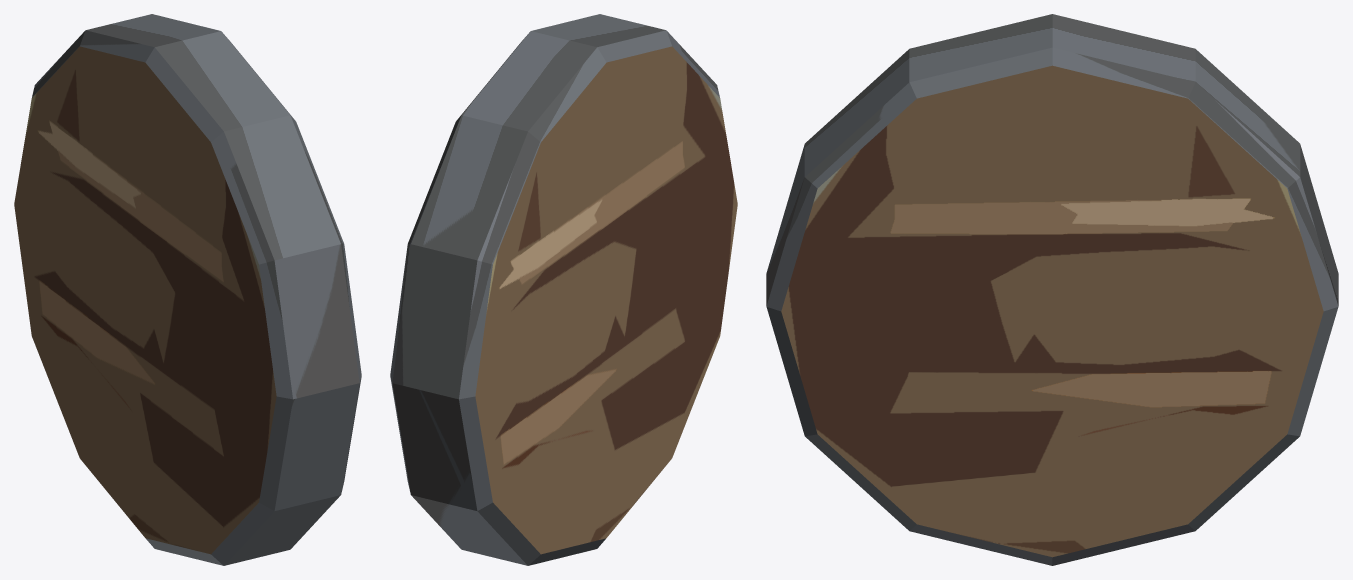
Rendered from log_car_wheel.fbx.
The picture shows the model from 3 angles, left to right: view 1: azimuth 30°, elevation 25°; view 2: azimuth 150°, elevation 25°; view 3: azimuth 270°, elevation 25°; orthographic projection. The views are drawn at different scales.
Parts seen in each view (by area): view 1: Wheel; view 2: Wheel; view 3: Wheel.
Part boxes in pixels (x1,y1,x2,y2): Wheel: (14,14,361,565); Wheel: (390,14,737,565); Wheel: (766,14,1338,565).
Size of the model in its own units: 13.41 by 75.45 by 75.45.
2 materials, 2 textured.
